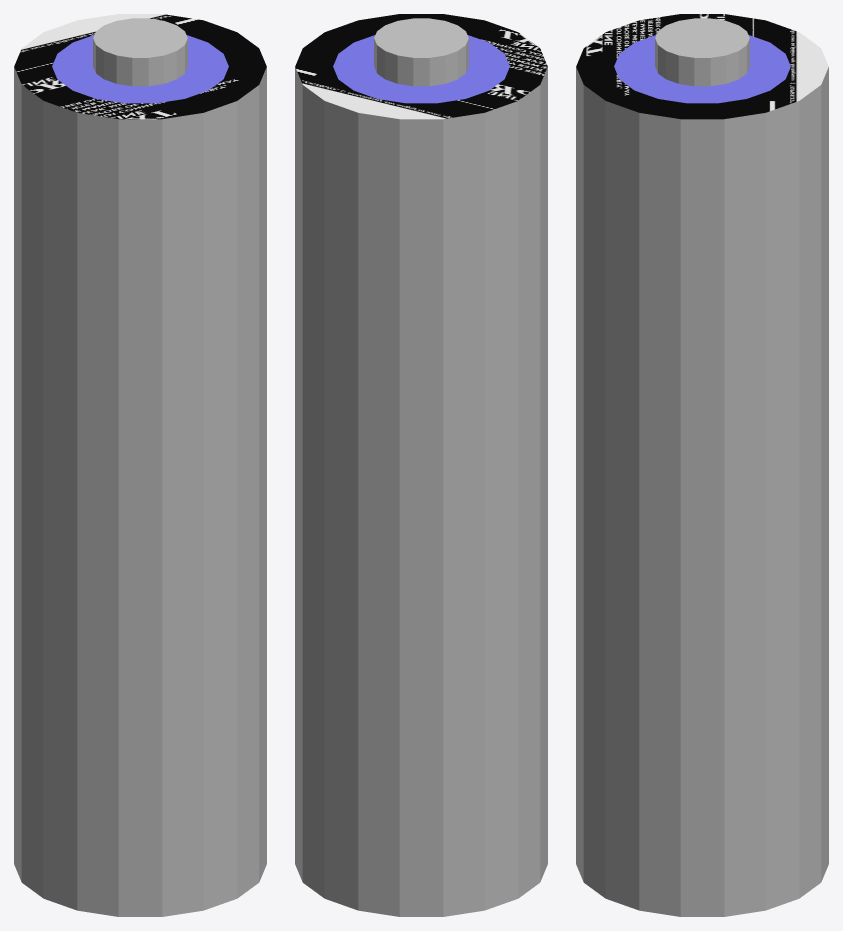
The model's file is bateria.obj.
3 views of the same model, side by side, from view 1: azimuth 30°, elevation 25°; view 2: azimuth 150°, elevation 25°; view 3: azimuth 270°, elevation 25° (orthographic).
Visible parts, largest first — view 1: Cylinder_1_ext, Cylinder_1_ext_1, Cylinder_2, Cylinder_1; view 2: Cylinder_1_ext, Cylinder_1_ext_1, Cylinder_2, Cylinder_1; view 3: Cylinder_1_ext, Cylinder_1_ext_1, Cylinder_2, Cylinder_1.
Part boxes in pixels (x1,y1,x2,y2): Cylinder_1_ext: (14,67,266,916); Cylinder_1_ext_1: (14,14,266,119); Cylinder_2: (93,18,187,86); Cylinder_1: (52,35,228,103); Cylinder_1_ext: (295,67,547,916); Cylinder_1_ext_1: (295,14,547,119); Cylinder_2: (374,18,468,86); Cylinder_1: (333,35,509,103); Cylinder_1_ext: (576,67,828,916); Cylinder_1_ext_1: (576,14,828,119); Cylinder_2: (655,18,749,86); Cylinder_1: (614,35,790,103).
Bounding box in the file's own units: 0.7736 × 2.83 × 0.7855.
Materials: 4 (2 with a texture image).
